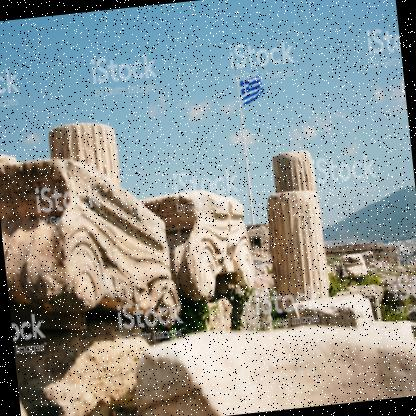gr: (241, 78, 266, 105)
